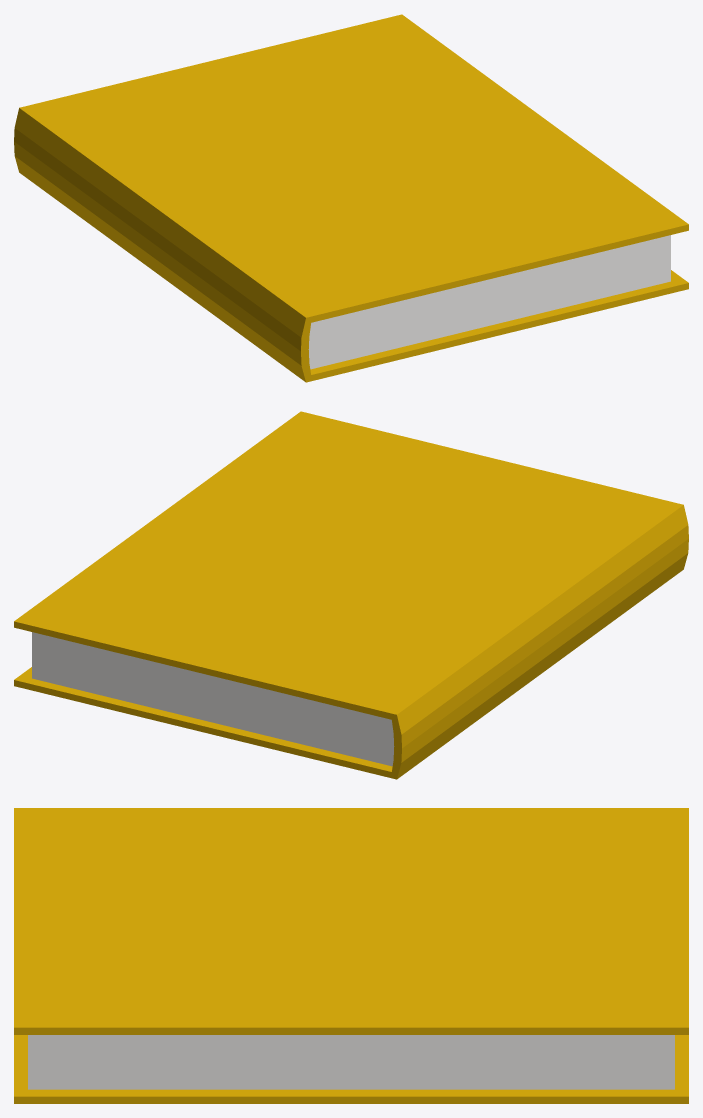
The model's file is book.glb.
3 renders of one model, top to bottom at view 1: azimuth 30°, elevation 25°; view 2: azimuth 150°, elevation 25°; view 3: azimuth 270°, elevation 25°, orthographic. The views are drawn at different scales.
Parts seen in each view (by area): view 1: Plane, Cube; view 2: Plane, Cube; view 3: Plane, Cube.
Part boxes in pixels (x1,y1,x2,y2): Plane: [14, 14, 688, 382]; Cube: [308, 235, 670, 369]; Plane: [14, 411, 688, 779]; Cube: [32, 632, 394, 766]; Plane: [14, 808, 688, 1103]; Cube: [28, 1035, 674, 1089].
Size of the model in its own units: 0.1477 by 0.0236 by 0.1892.
2 materials, 1 textured.
